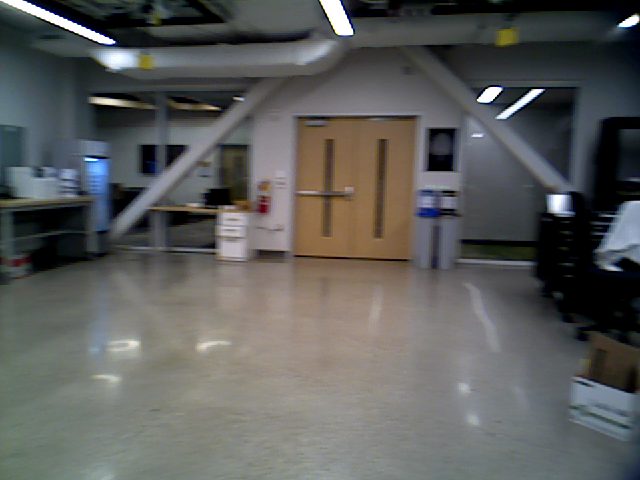painting1: (422, 126, 462, 173)
